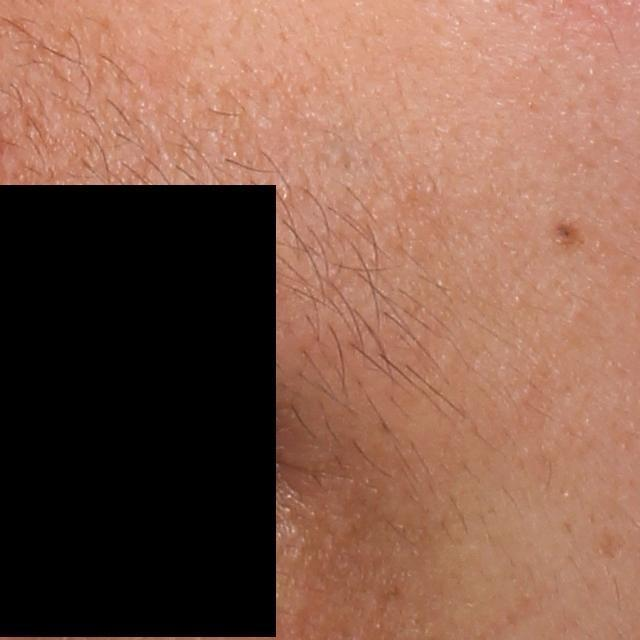nevus: (551, 220, 582, 249)
